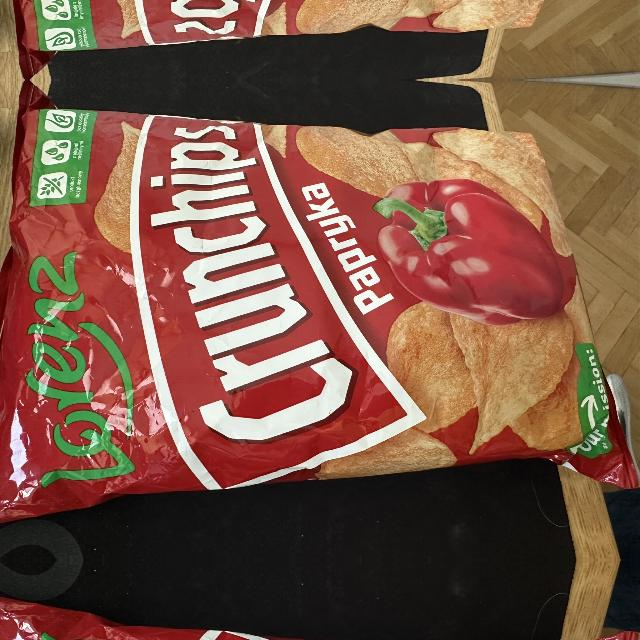crunchips: (130, 116, 428, 491)
